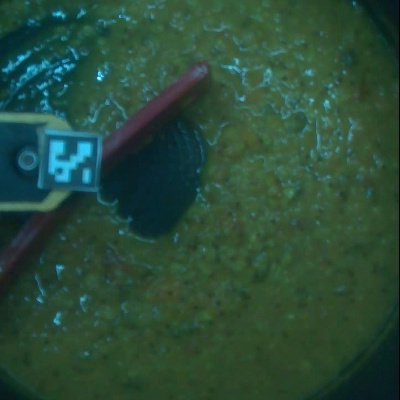stirrer: (1, 109, 108, 217)
